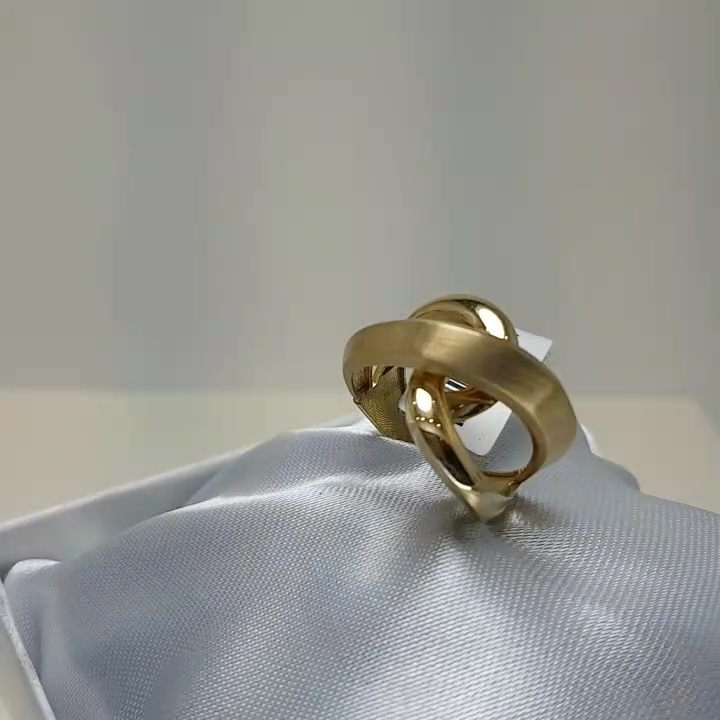Ring 3: (303, 293, 590, 541)
